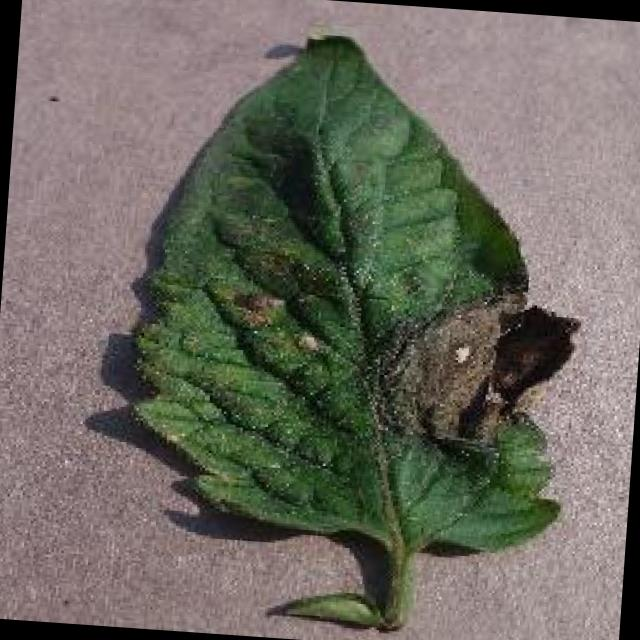Tomato_Late_Blight: (372, 246, 596, 466), (218, 236, 339, 362)
